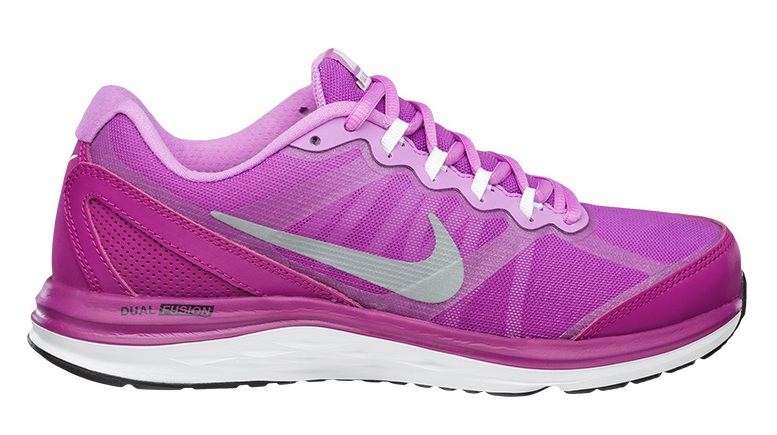Nike: (206, 201, 467, 309)
